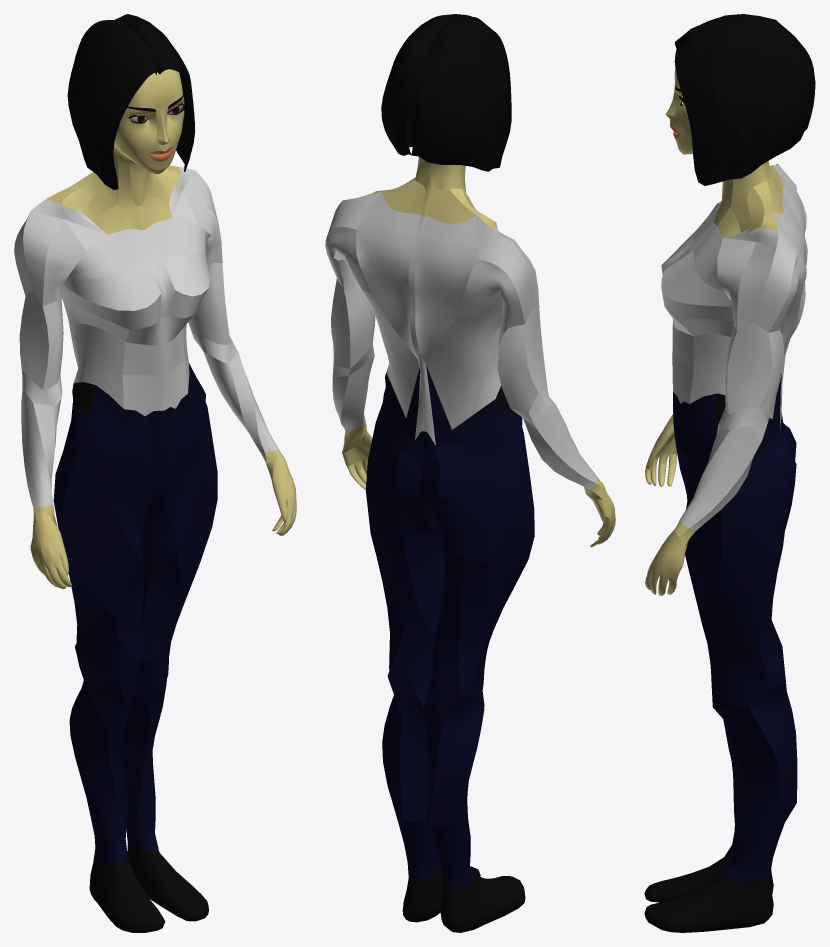
The model's file is sonrisa.obj.
3 renders of one model, left to right at view 1: azimuth 30°, elevation 25°; view 2: azimuth 150°, elevation 25°; view 3: azimuth 270°, elevation 25°, orthographic. The views are drawn at different scales.
Visible parts, largest first — view 1: Piel.006; view 2: Piel.006; view 3: Piel.006.
Boxes of the visible parts, <box> form: Piel.006: <box>14,14,296,932</box>; Piel.006: <box>325,14,615,932</box>; Piel.006: <box>644,14,815,932</box>.
Size of the model in its own units: 1.02 by 3.26 by 0.5661.
